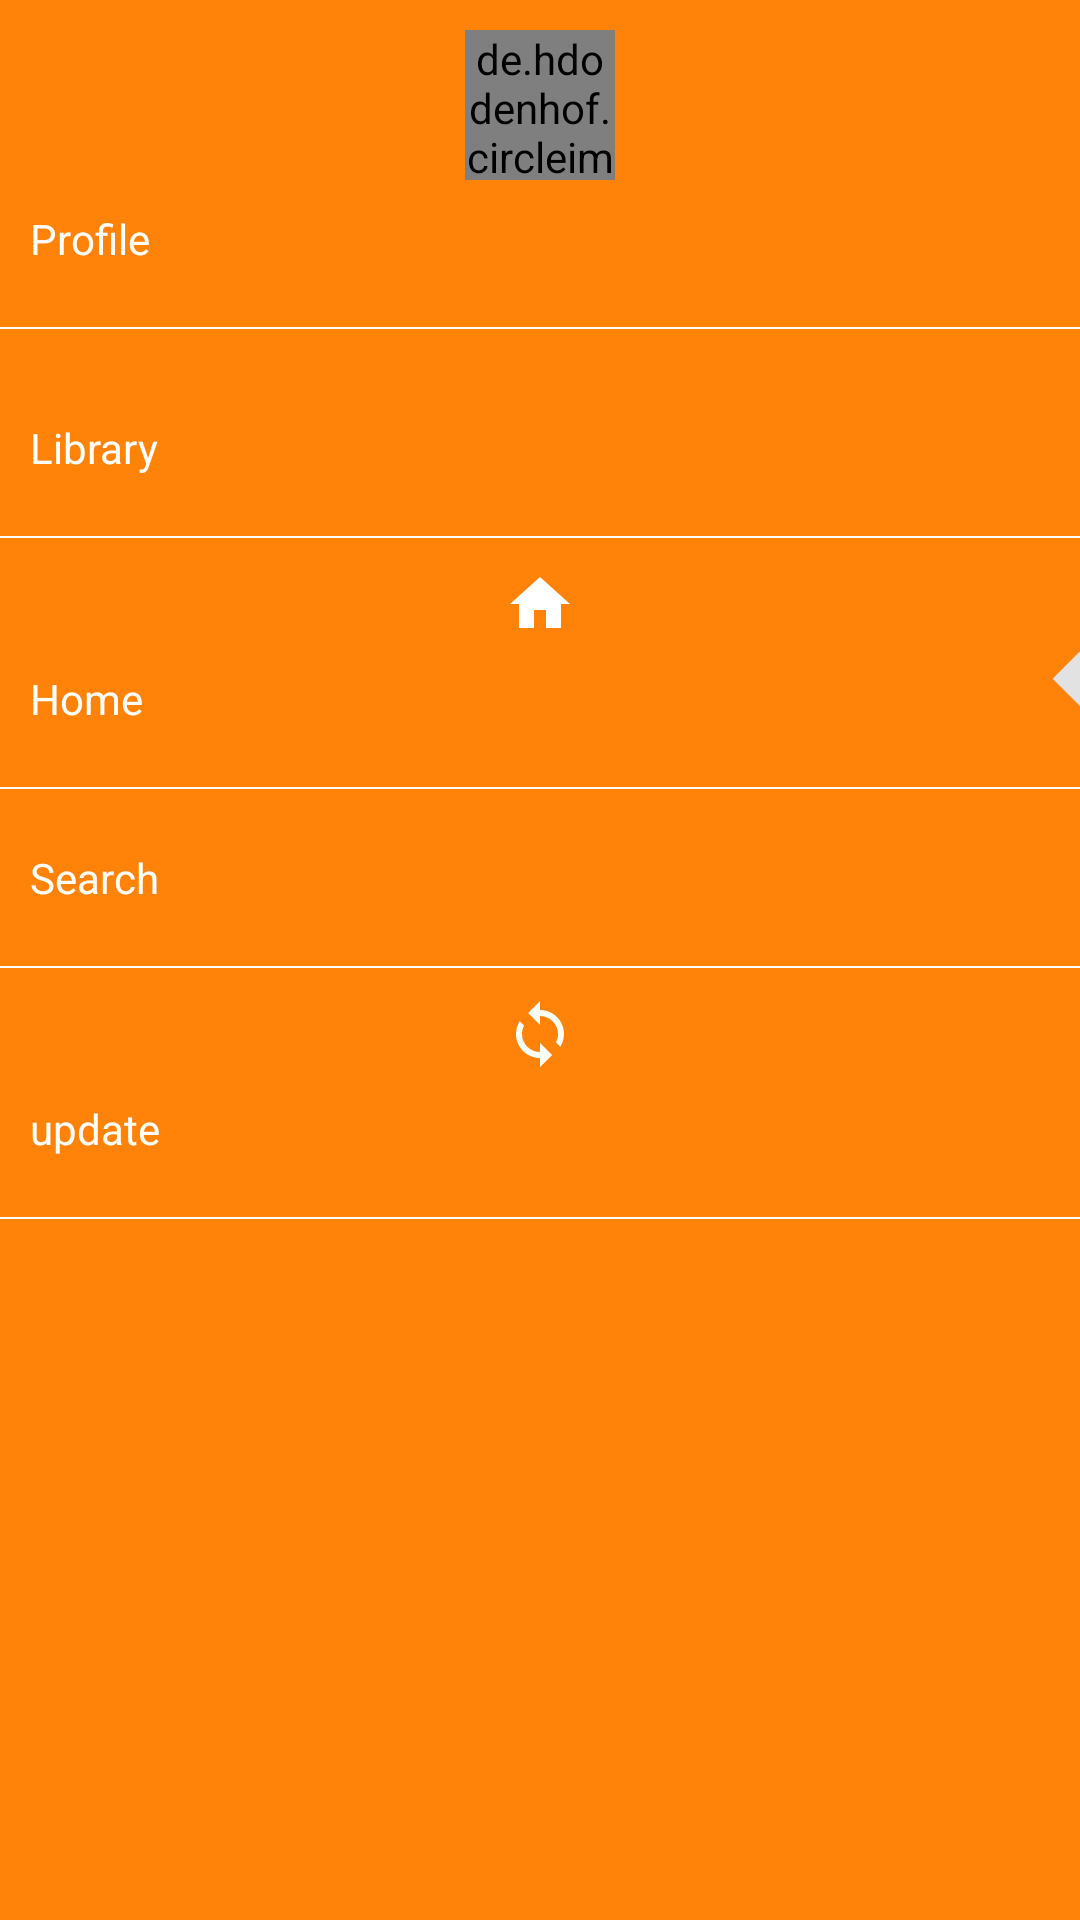

Icon bounding boxes for this 1080 × 1920 phone screenshot, format {"left": x1, "top": y1, "right": x2, "bottom": y2}:
home: {"left": 510, "top": 577, "right": 570, "bottom": 628}
sync: {"left": 516, "top": 1001, "right": 564, "bottom": 1067}
